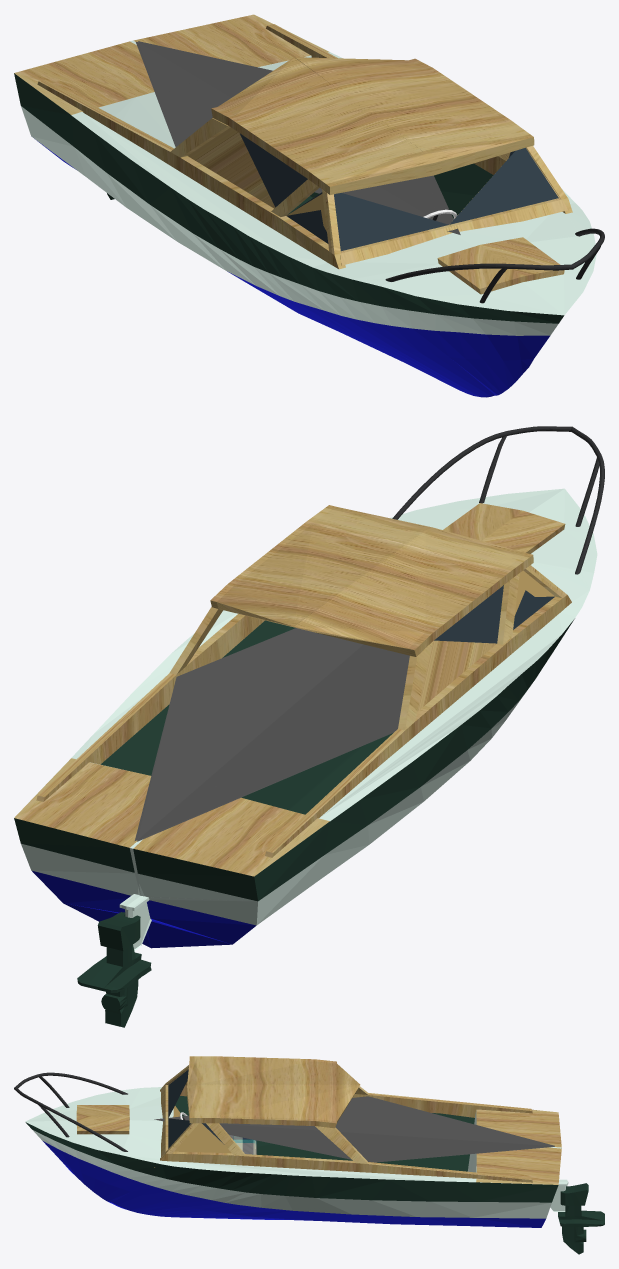
Rendered from SeaAngler.obj.
3 views of the same model, one above another, from view 1: azimuth 30°, elevation 25°; view 2: azimuth 150°, elevation 25°; view 3: azimuth 270°, elevation 25° (orthographic). The views are drawn at different scales.
Parts seen in each view (by area): view 1: Object.1; view 2: Object.1; view 3: Object.1.
Part boxes in pixels (x1,y1,x2,y2): Object.1: (14, 14, 604, 397); Object.1: (14, 426, 604, 1027); Object.1: (14, 1056, 604, 1254).
Bounding box in the file's own units: 51.39 × 45.41 × 145.
9 materials, 2 textured.
